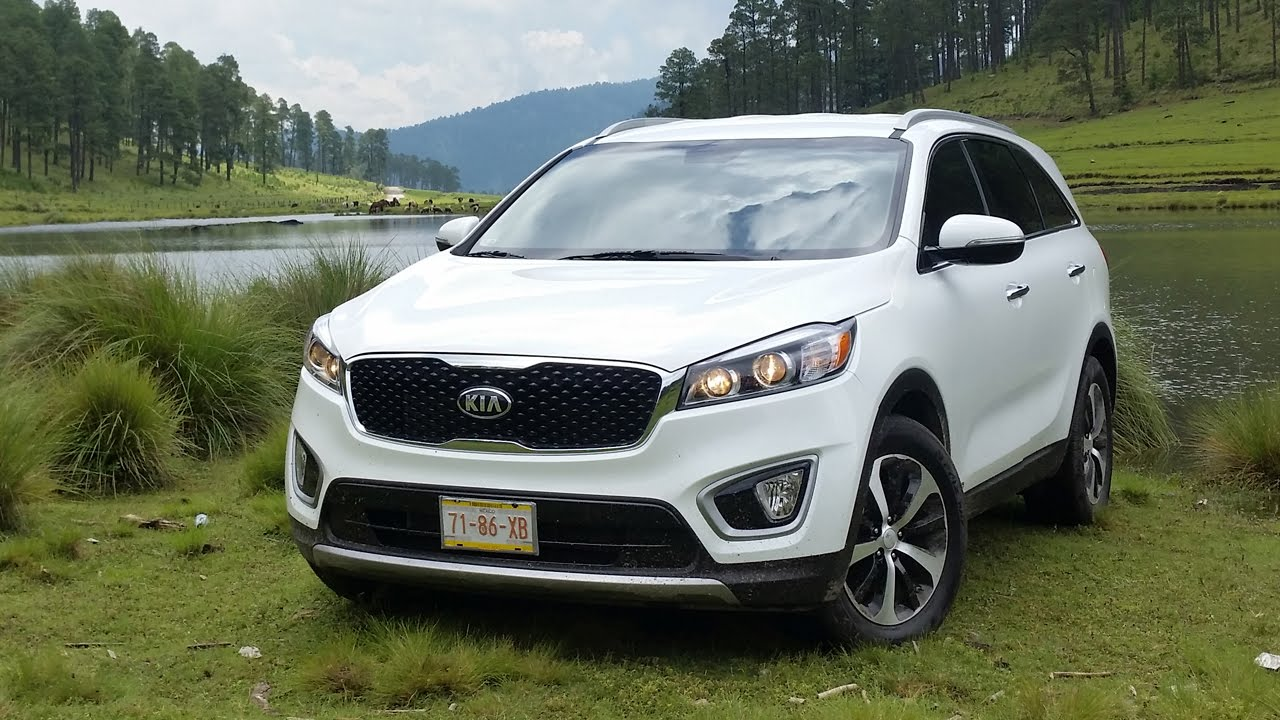Camioneta: (246, 106, 1166, 667)
